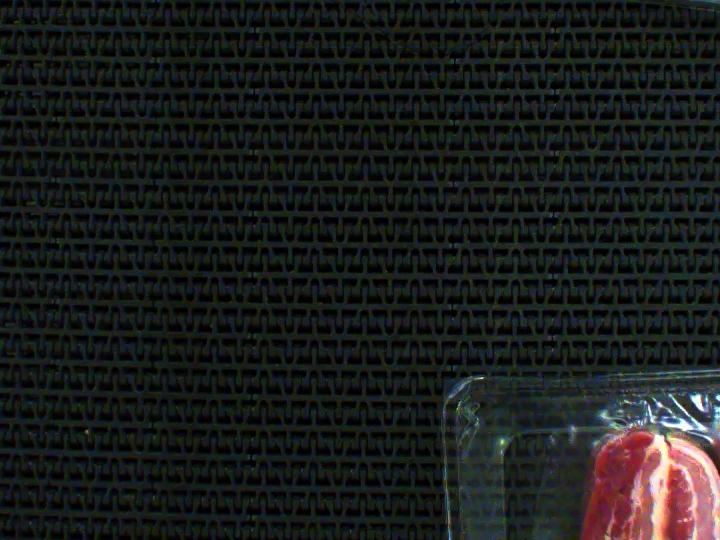twisted-meat: (588, 375, 720, 482)
